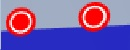Target: (78, 1, 111, 32), (6, 6, 36, 38)
